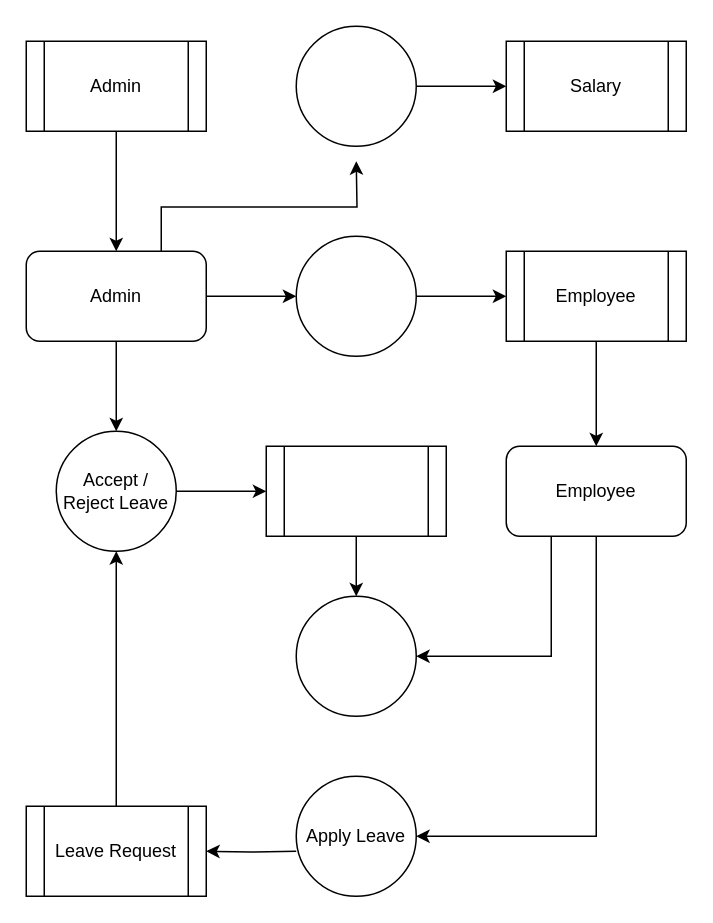
Some shapes in this 713 by 923 pixel diagram are drawn without their labels. Each missing label, with the box of its shape:
Add Salary Details: (295, 25, 416, 146)
Employee Registration: (295, 235, 416, 356)
Leave Approval: (265, 445, 446, 536)
View Leave Request Status: (295, 595, 416, 716)
